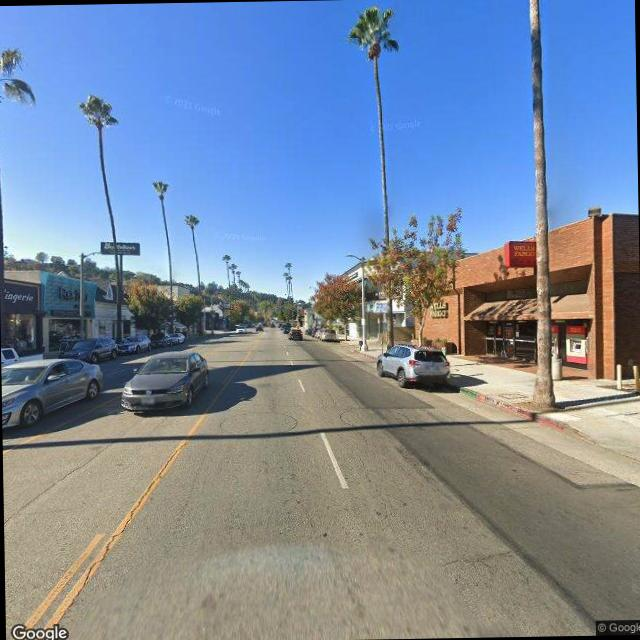pothole: (48, 433, 190, 638)
